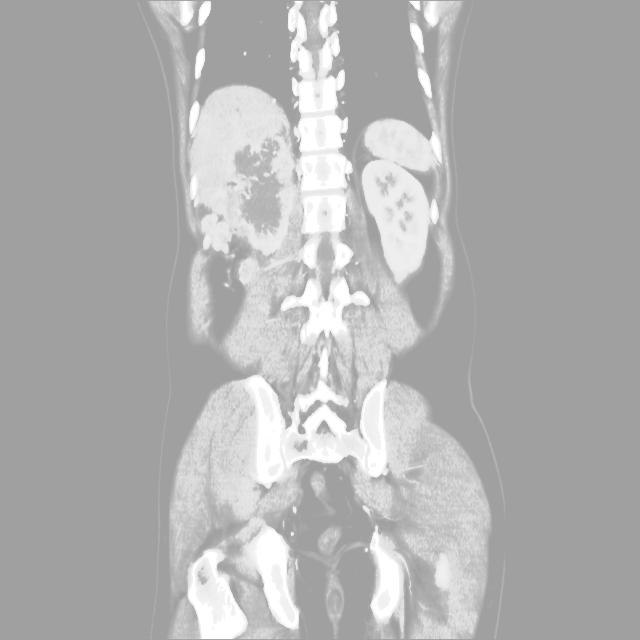TUMOR: (160, 90, 511, 356)
